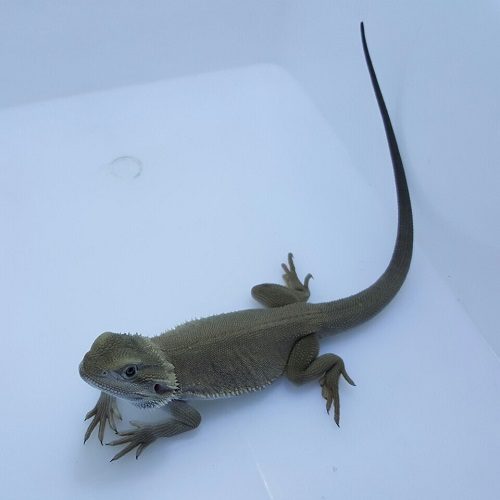bearded: (77, 20, 415, 466)
